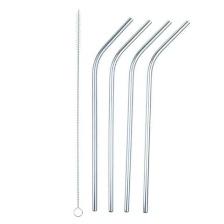drinking_straw: (139, 17, 194, 216)
